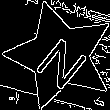N_NE: (27, 23, 93, 88)
